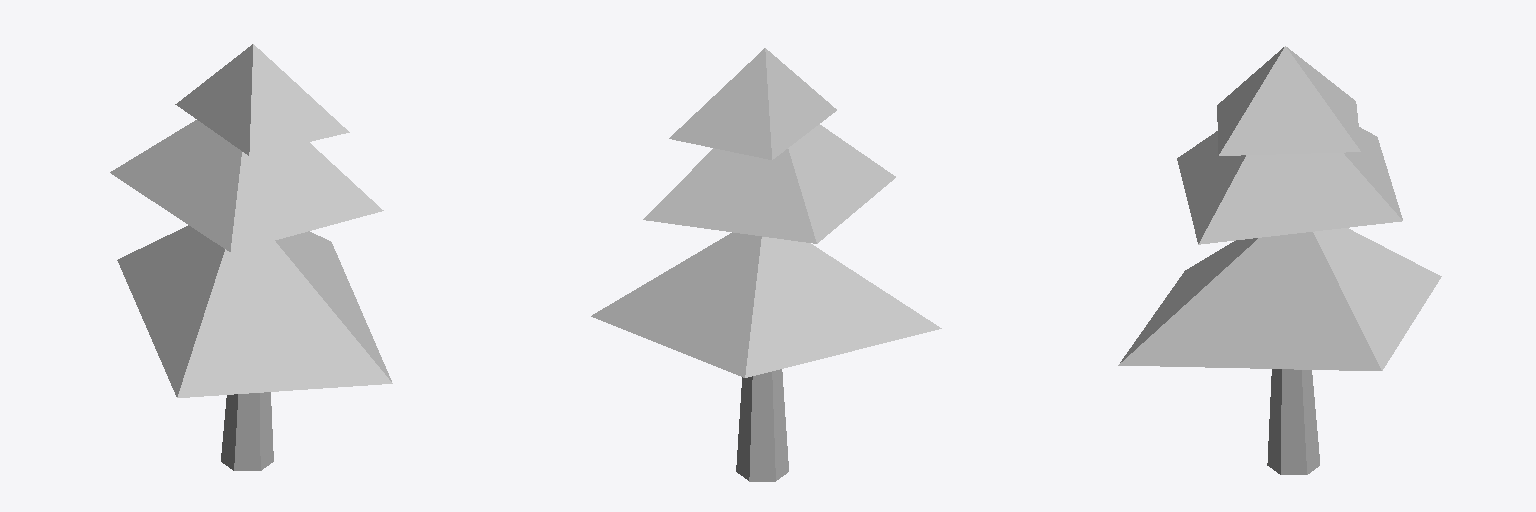
The model's file is tree02.obj.
The picture shows the model from 3 angles: view 1: azimuth 30°, elevation 25°; view 2: azimuth 150°, elevation 25°; view 3: azimuth 270°, elevation 25°; orthographic projection.
Parts seen in each view (by area): view 1: Converted_object_1; view 2: Converted_object_1; view 3: Converted_object_1.
Part boxes in pixels (bbox=[...]): Converted_object_1: bbox=[110, 44, 392, 470]; Converted_object_1: bbox=[591, 48, 941, 481]; Converted_object_1: bbox=[1118, 46, 1441, 474].
Size of the model in its own units: 3.34 by 5.31 by 3.7.